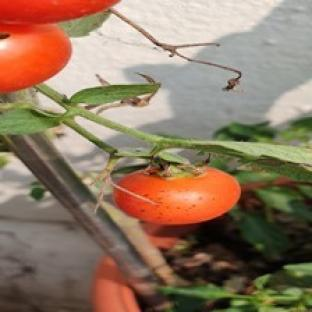Tomato: (113, 168, 240, 224), (0, 24, 72, 93)
